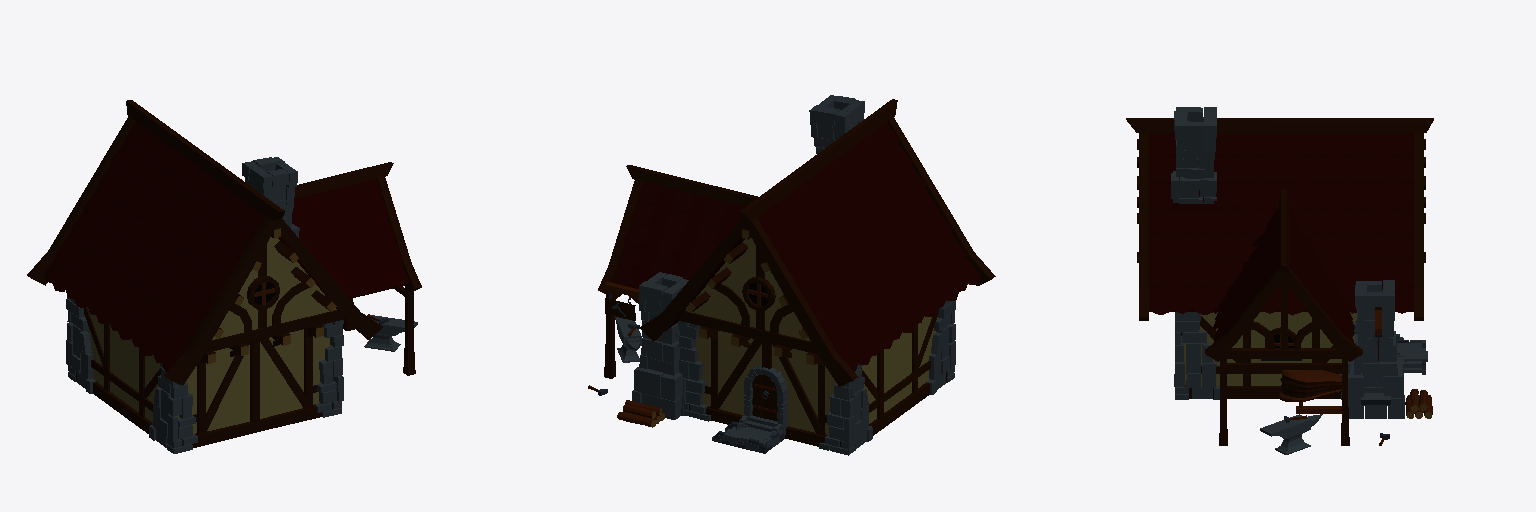
The model's file is Blacksmith_Cube.obj.
3 renders of one model, left to right at view 1: azimuth 30°, elevation 25°; view 2: azimuth 150°, elevation 25°; view 3: azimuth 270°, elevation 25°, orthographic.
Parts seen in each view (by area): view 1: Blacksmith_Cube.000; view 2: Blacksmith_Cube.000; view 3: Blacksmith_Cube.000.
Boxes of the visible parts, <box> form: Blacksmith_Cube.000: <box>27,100,421,453</box>; Blacksmith_Cube.000: <box>588,95,995,455</box>; Blacksmith_Cube.000: <box>1126,107,1433,454</box>.
Bounding box in the file's own units: 3.89 × 3 × 3.28.